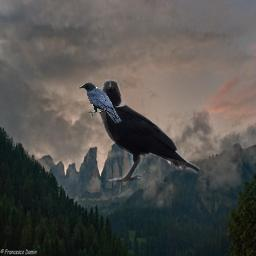Crow: (97, 79, 201, 182), (78, 82, 122, 124)
